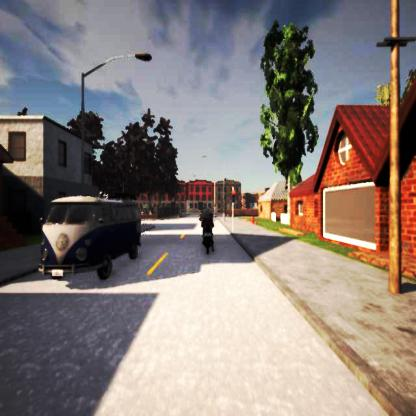motobike: (200, 211, 215, 253)
vehicle: (37, 196, 144, 281)
